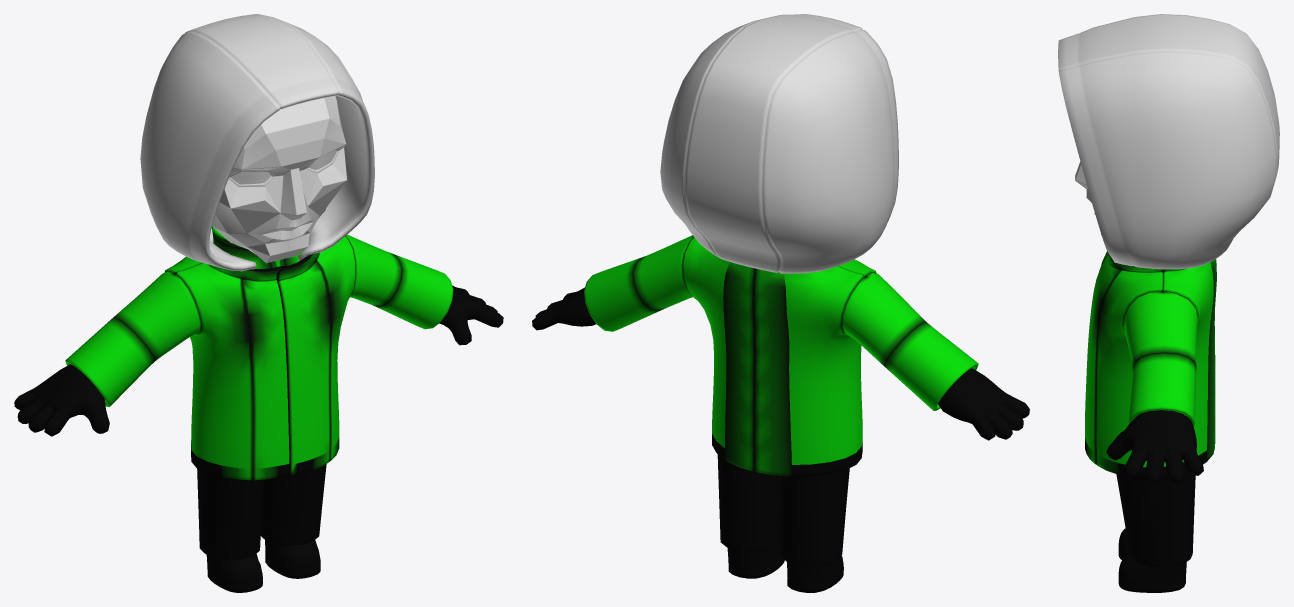
The model's file is FrontMan_v01.fbx.
The picture shows the model from 3 angles, left to right: view 1: azimuth 30°, elevation 25°; view 2: azimuth 150°, elevation 25°; view 3: azimuth 270°, elevation 25°; orthographic projection.
Visible parts, largest first — view 1: FrontMan_body, FrontMan_hood, FrontMan_mask; view 2: FrontMan_body, FrontMan_hood; view 3: FrontMan_hood, FrontMan_body.
Boxes of the visible parts, x1,y1,x2,y2 form: FrontMan_body: [14, 226, 503, 592]; FrontMan_hood: [140, 14, 374, 271]; FrontMan_mask: [212, 96, 346, 263]; FrontMan_body: [532, 235, 1029, 592]; FrontMan_hood: [660, 14, 898, 273]; FrontMan_hood: [1058, 14, 1279, 269]; FrontMan_body: [1085, 251, 1216, 592].
Bounding box in the file's own units: 97.22 × 106 × 39.46.
